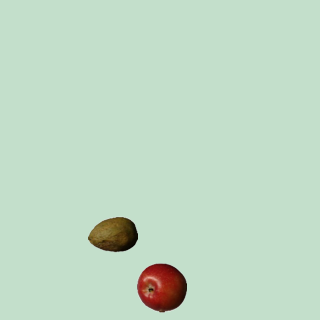Apple Braeburn: (136, 262, 186, 312)
Papaya: (87, 209, 137, 259)
